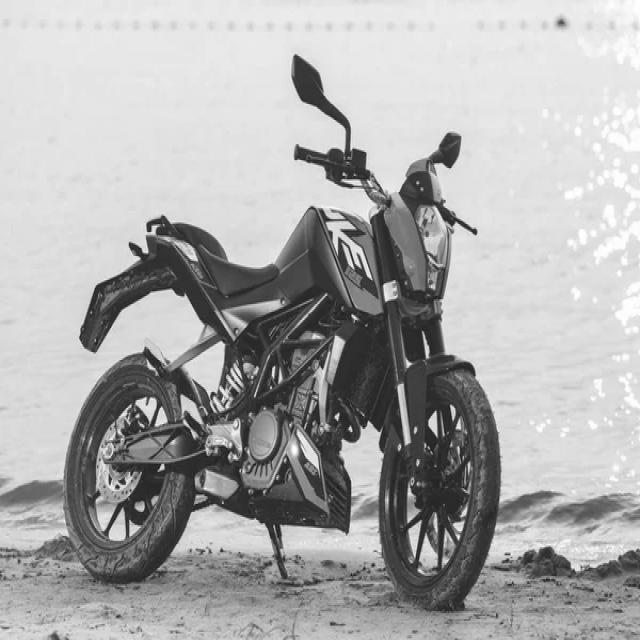Motorcycle: (64, 54, 502, 612)
